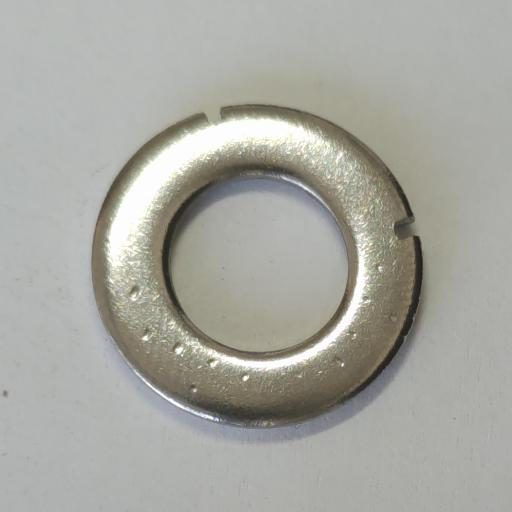burr: (393, 215, 420, 241), (202, 106, 227, 127)
